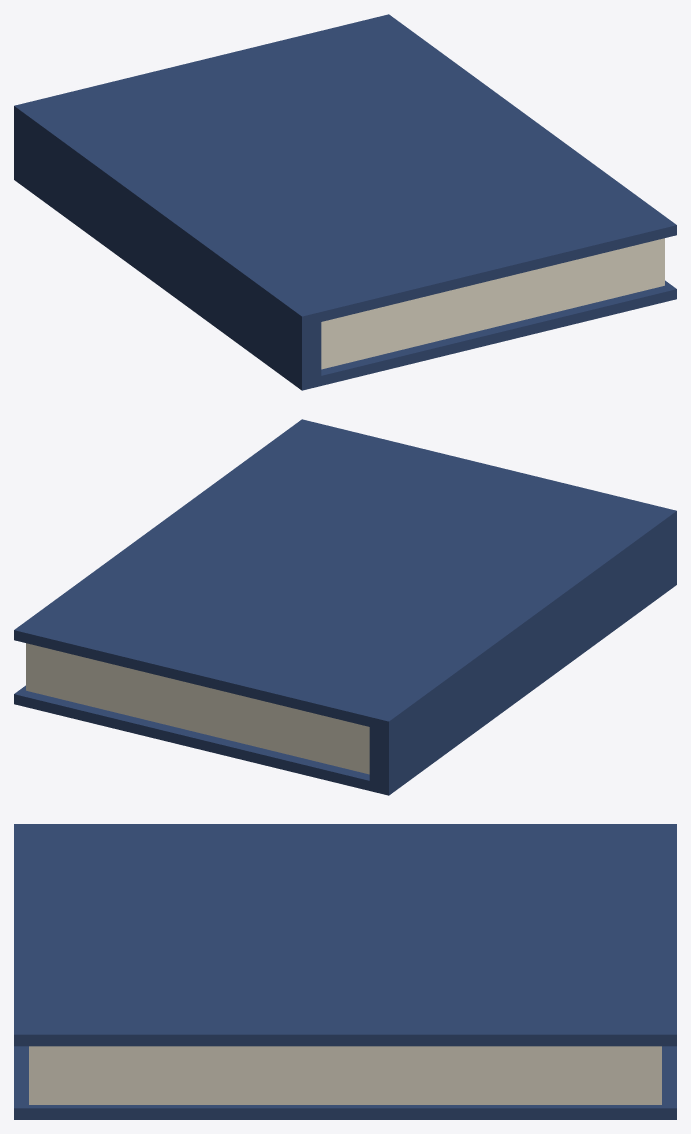
The model's file is Prop_KeeperLog.fbx.
3 views of the same model, one above another, from view 1: azimuth 30°, elevation 25°; view 2: azimuth 150°, elevation 25°; view 3: azimuth 270°, elevation 25° (orthographic). The views are drawn at different scales.
Parts seen in each view (by area): view 1: KeeperLog_Cover, KeeperLog_Pages; view 2: KeeperLog_Cover, KeeperLog_Pages; view 3: KeeperLog_Cover, KeeperLog_Pages.
Boxes of the visible parts, bbox=[...] form: KeeperLog_Cover: bbox=[14, 14, 676, 390]; KeeperLog_Pages: bbox=[321, 238, 664, 369]; KeeperLog_Cover: bbox=[14, 419, 676, 795]; KeeperLog_Pages: bbox=[26, 643, 369, 774]; KeeperLog_Cover: bbox=[14, 824, 676, 1119]; KeeperLog_Pages: bbox=[29, 1046, 661, 1104].
Bounding box in the file's own units: 0.233 × 0.044 × 0.31.
